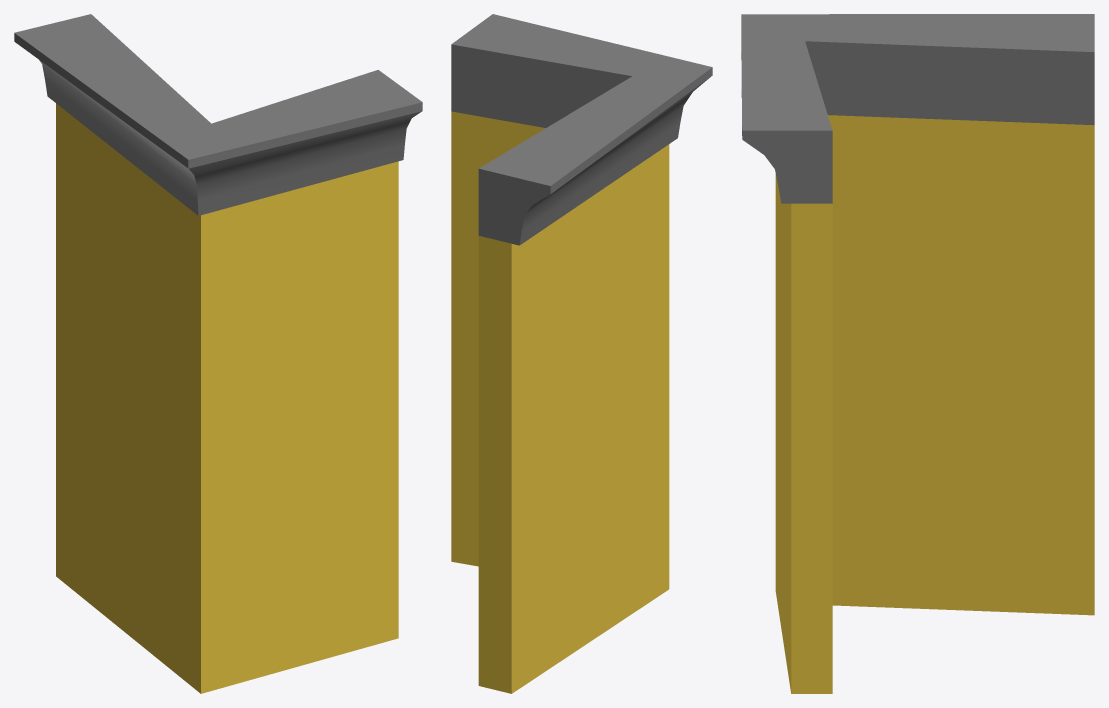
Rendered from Wall1_Top_Cornor.fbx.
3 views of the same model, side by side, from view 1: azimuth 30°, elevation 25°; view 2: azimuth 150°, elevation 25°; view 3: azimuth 270°, elevation 25° (orthographic). The views are drawn at different scales.
Parts seen in each view (by area): view 1: Wall002_Top_Cornor; view 2: Wall002_Top_Cornor; view 3: Wall002_Top_Cornor.
Boxes of the visible parts, x1,y1,x2,y2 form: Wall002_Top_Cornor: [14, 14, 422, 693]; Wall002_Top_Cornor: [451, 14, 712, 693]; Wall002_Top_Cornor: [741, 14, 1094, 693].
Size of the model in its own units: 52.51 by 118 by 67.21.
